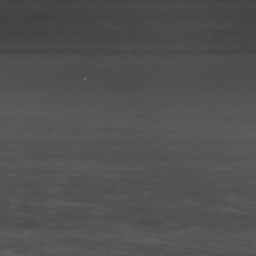Target: (81, 75, 88, 82)
